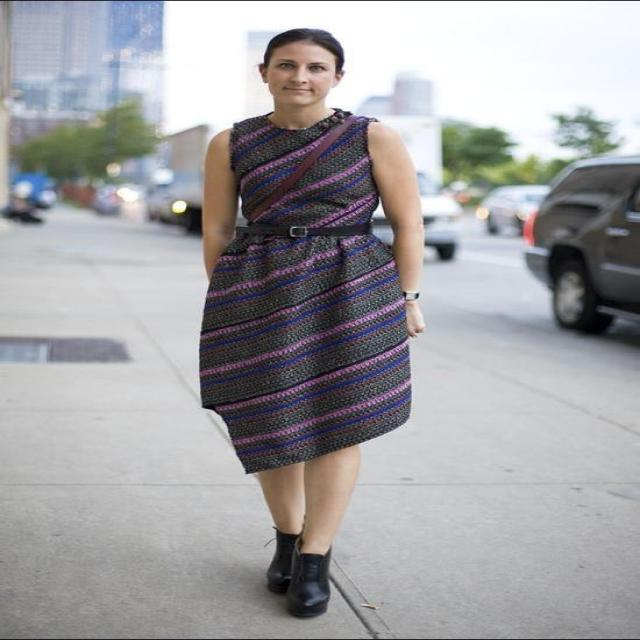dress: (199, 107, 412, 475)
